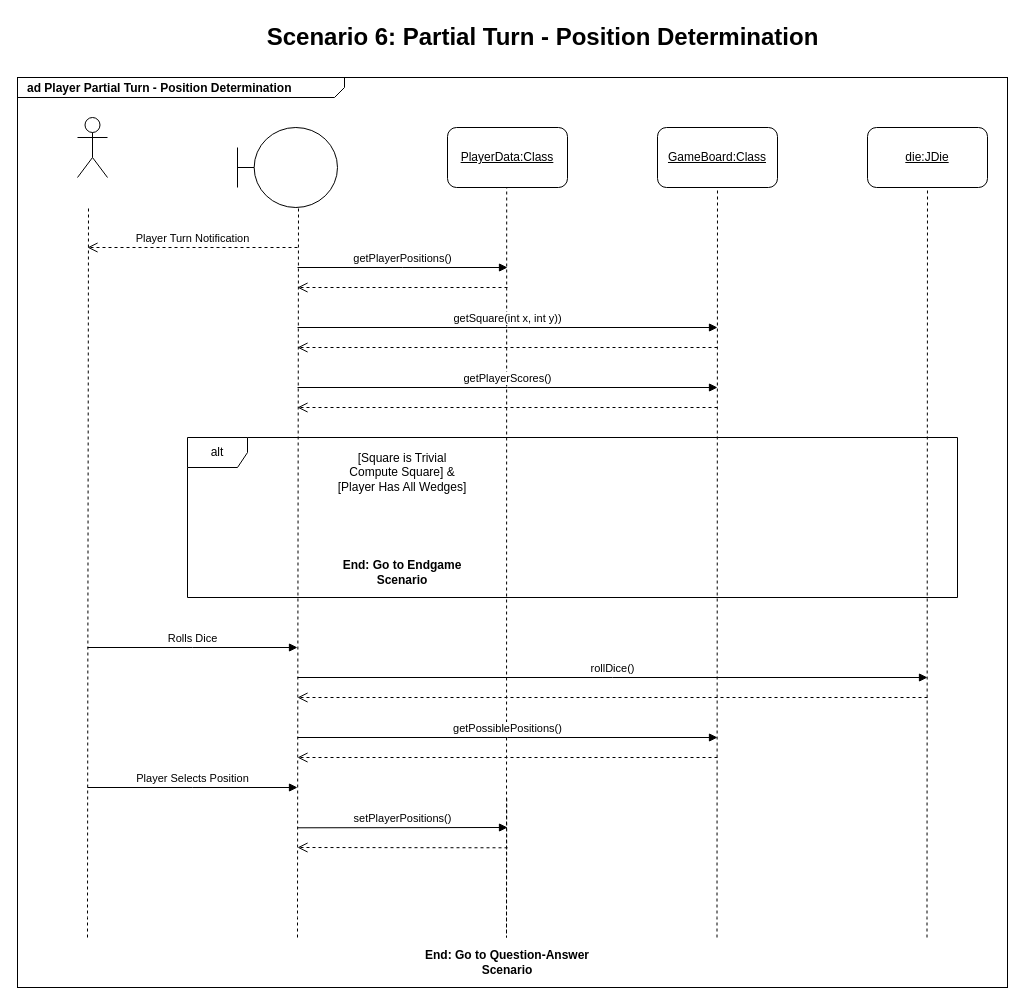
Image size: 1025x1005. Some labels were removed from this diagram. Each missing label, with the box of its shape:
Boundary Object: (236, 126, 338, 208)
Player: (76, 116, 108, 178)
